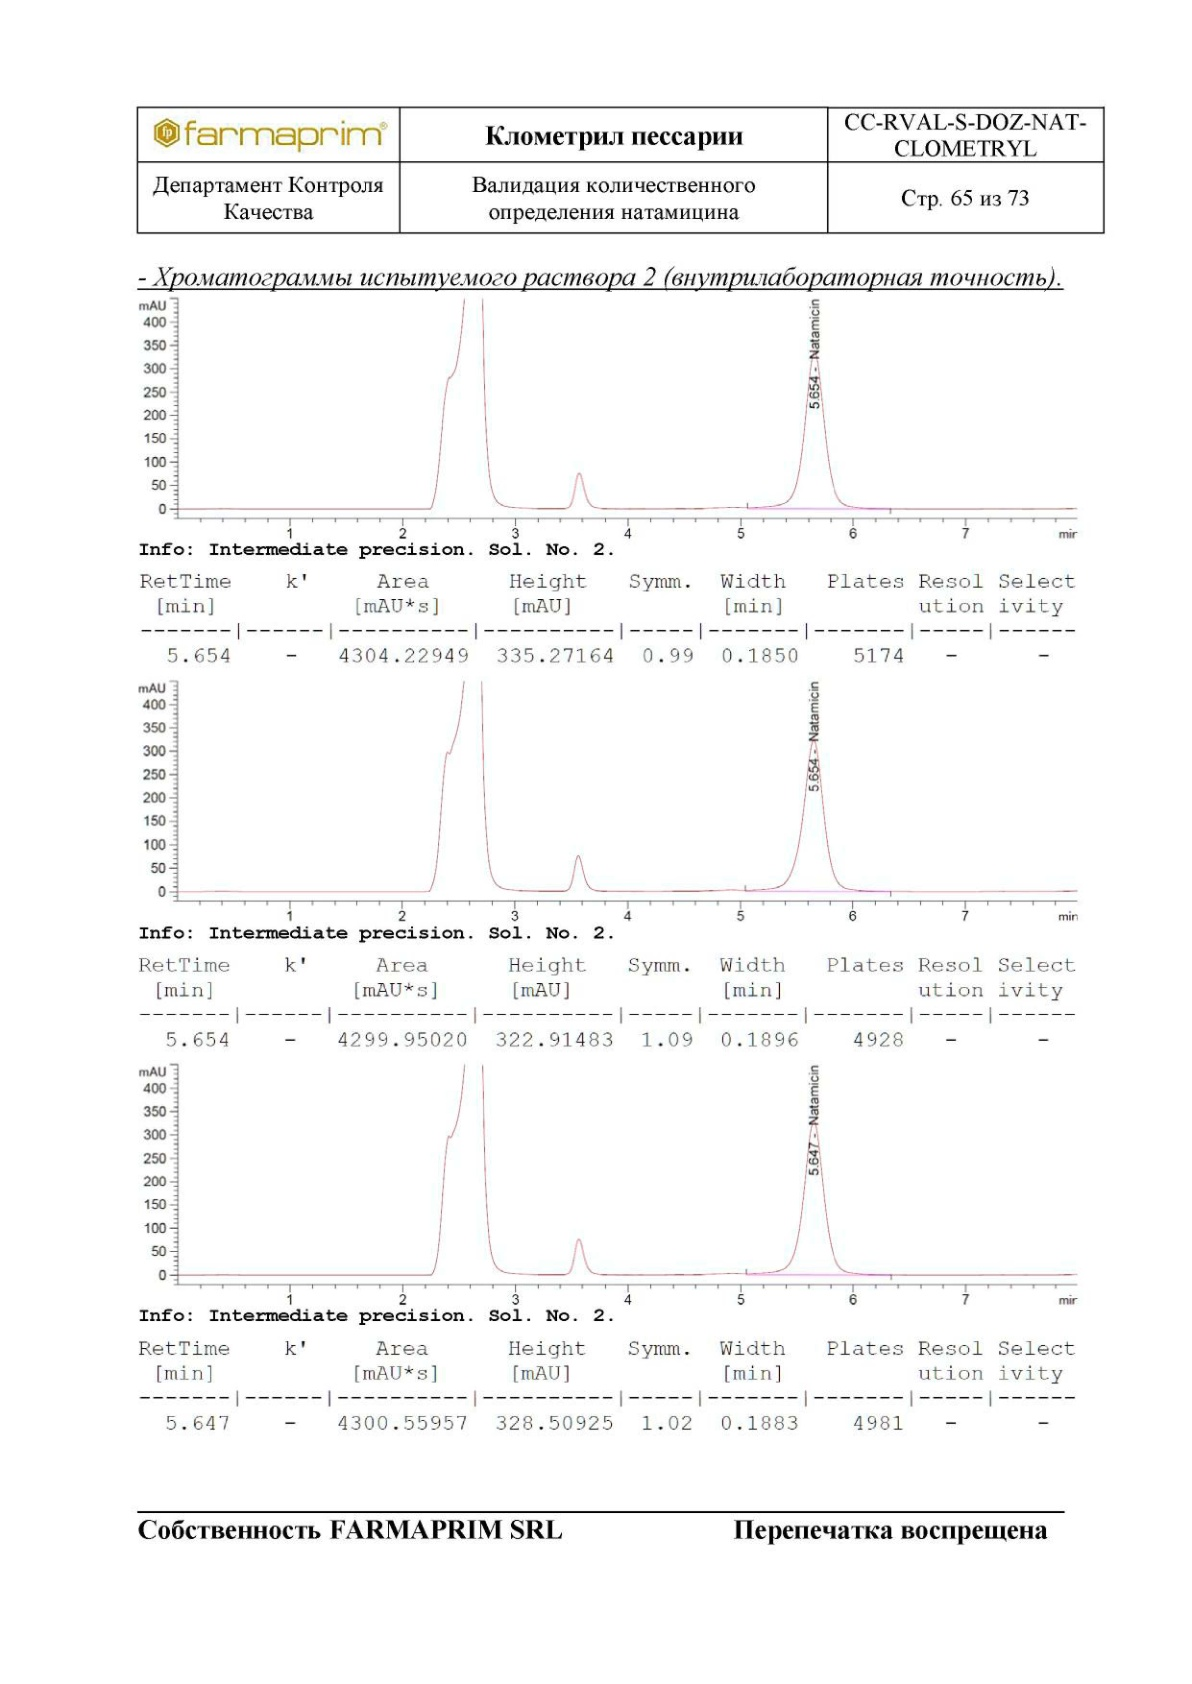full_lined: (135, 104, 1107, 233)
partial_lined: (138, 949, 1080, 1059), (133, 1336, 1084, 1443), (138, 569, 1078, 672)
